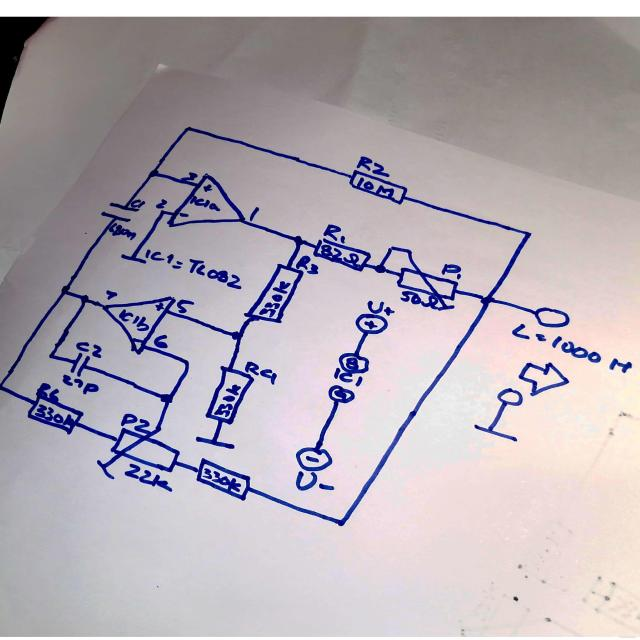capacitor: (100, 202, 139, 224), (68, 352, 90, 376)
ground: (472, 423, 518, 444), (194, 435, 236, 449), (118, 253, 147, 266)
junction: (158, 392, 174, 405), (77, 292, 92, 305), (58, 283, 73, 295), (46, 349, 60, 361), (146, 167, 160, 178), (154, 207, 168, 218), (480, 295, 494, 306), (180, 356, 193, 367), (520, 230, 534, 240), (181, 124, 194, 134), (293, 236, 306, 246), (373, 264, 386, 274), (386, 244, 399, 254), (402, 247, 415, 257), (230, 330, 243, 340), (332, 517, 345, 527), (153, 423, 166, 433), (0, 380, 8, 391)
resistor: (96, 427, 180, 481), (242, 263, 306, 324), (203, 364, 255, 424), (395, 265, 459, 312), (194, 456, 252, 502), (25, 395, 84, 435), (348, 170, 408, 207), (312, 237, 372, 274)
terminal: (294, 446, 332, 474), (532, 304, 571, 328), (336, 352, 371, 376), (354, 313, 388, 336), (496, 386, 524, 408), (327, 384, 356, 404)
text: (511, 323, 633, 374), (144, 248, 243, 290), (121, 462, 172, 492), (258, 280, 291, 318), (213, 382, 243, 418), (32, 403, 76, 427), (200, 467, 242, 492), (294, 470, 336, 493), (60, 374, 101, 396), (319, 244, 359, 266), (355, 177, 395, 198), (116, 308, 151, 332), (399, 290, 440, 310), (119, 412, 152, 436), (356, 155, 390, 177), (332, 366, 363, 388), (188, 195, 222, 213), (34, 383, 62, 404), (106, 222, 136, 240), (76, 340, 103, 360), (366, 298, 396, 316), (295, 255, 320, 276), (322, 223, 346, 243), (441, 263, 463, 280), (175, 298, 195, 314), (344, 356, 360, 371), (153, 334, 170, 348), (180, 170, 198, 183), (333, 388, 347, 402), (248, 206, 260, 222), (130, 199, 146, 210), (104, 290, 118, 302), (155, 198, 168, 210)
